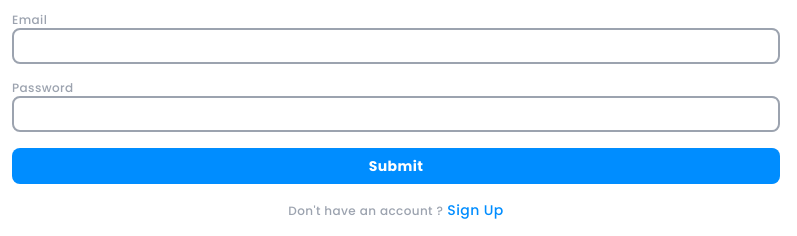
it: LoginForm › should disable the submit button immediately after user submits the form
The width and height of the screenshot is (797, 236).
Type "testuser123@gmail.com" into the field labelled "Email".
click(396, 46); type("testuser123@gmail.com")  # box [12,28,780,64]
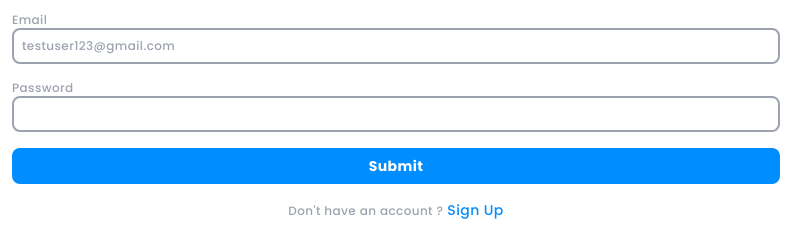
Type "12345678" into the password field labelled "Password".
click(396, 114); type("12345678")  # box [12,96,780,132]
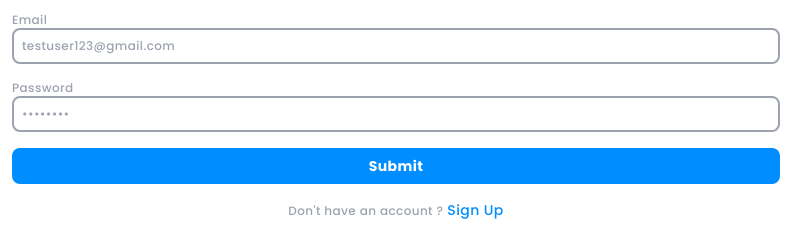
Click the button "Submit".
click(396, 166)  # box [12,148,780,184]
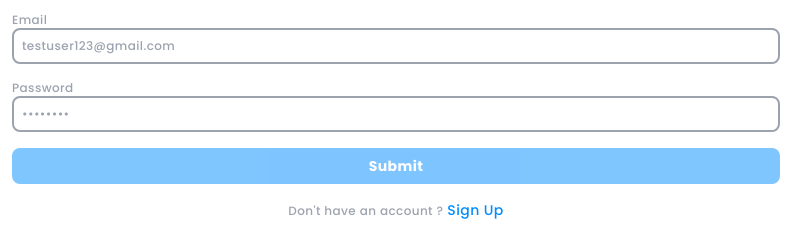
Result: the button "Submit" is disabled at [12,148,780,184]
